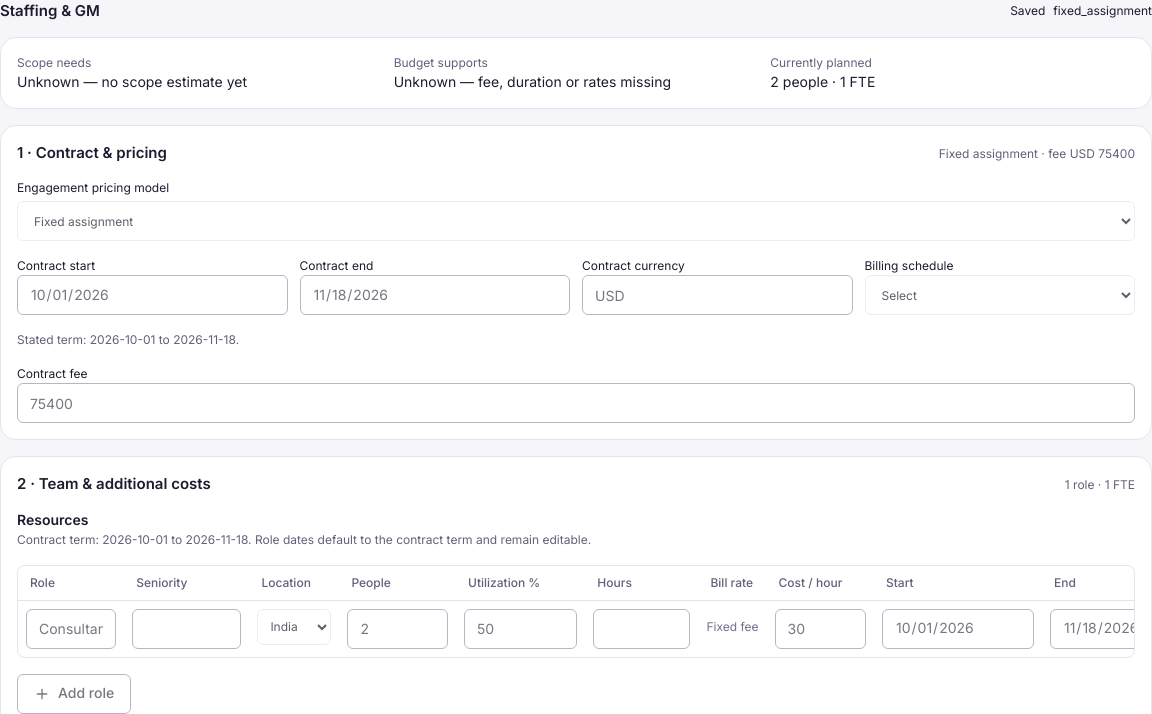
Test: Server-persisted commercial draft › auto-saves the draft after an edit (debounced) and shows the state
This screenshot has width=1152, height=714.
Step 1. Replace the text in the field labelled "Contract fee" with "80000" → (576, 403), box [17, 383, 1135, 423]
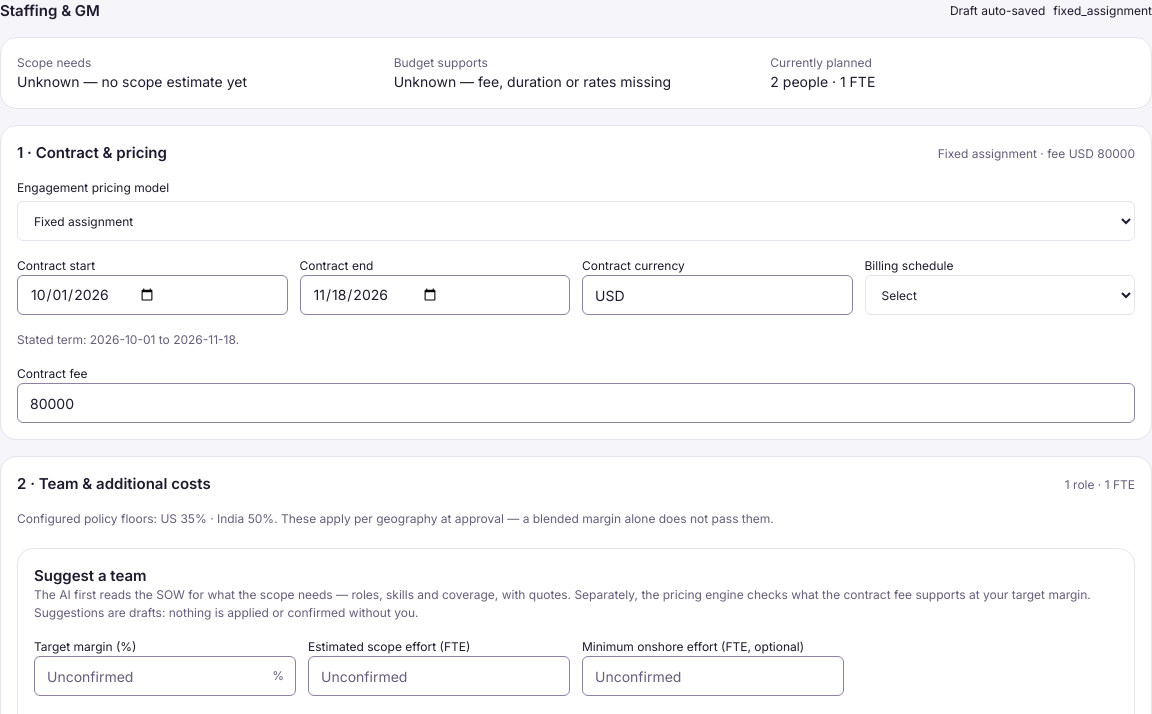
Expected: the text with test id "draft-state" reads "Draft auto-saved", [950, 2, 1045, 18]
